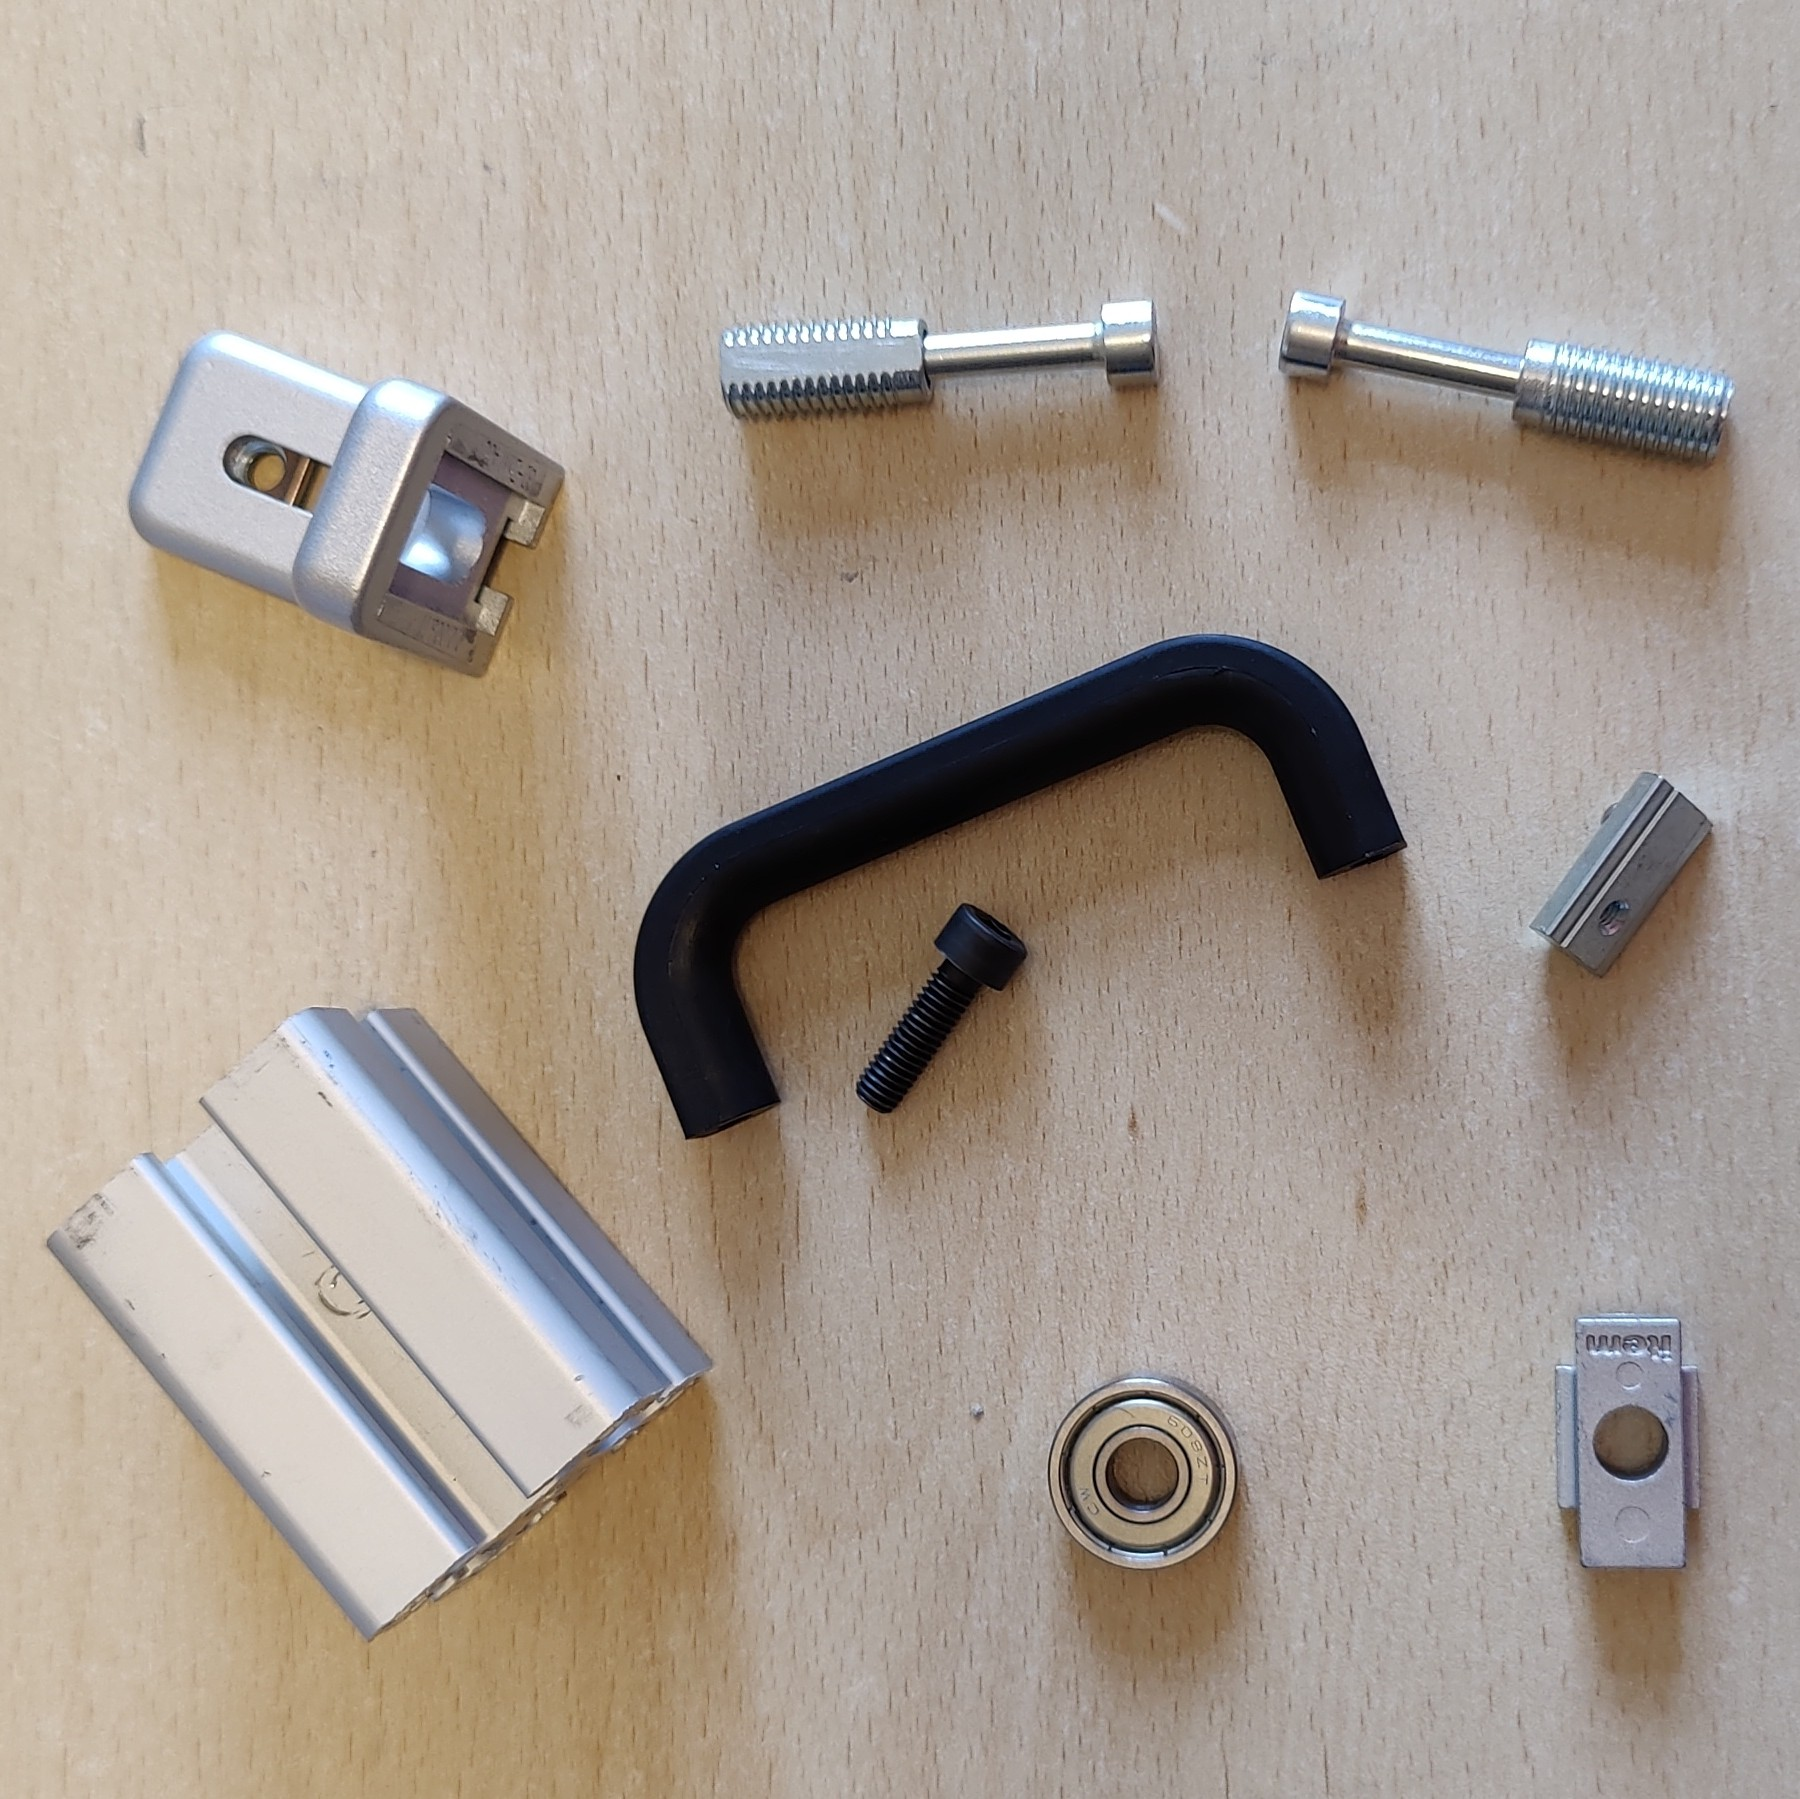Aluminium Extension: (44, 1003, 716, 1644)
Ball Bearing: (1046, 1372, 1243, 1572)
Multiwinkel: (125, 326, 567, 680)
Pull Handle: (632, 631, 1411, 1142)
Shoulder Socket Head Cap Screw: (1275, 285, 1737, 471), (715, 292, 1164, 423)
Socket Head Cap Screw: (851, 896, 1033, 1117)
T Nut Square: (1551, 1313, 1704, 1572)
T Spring Nut: (1527, 768, 1718, 980)
